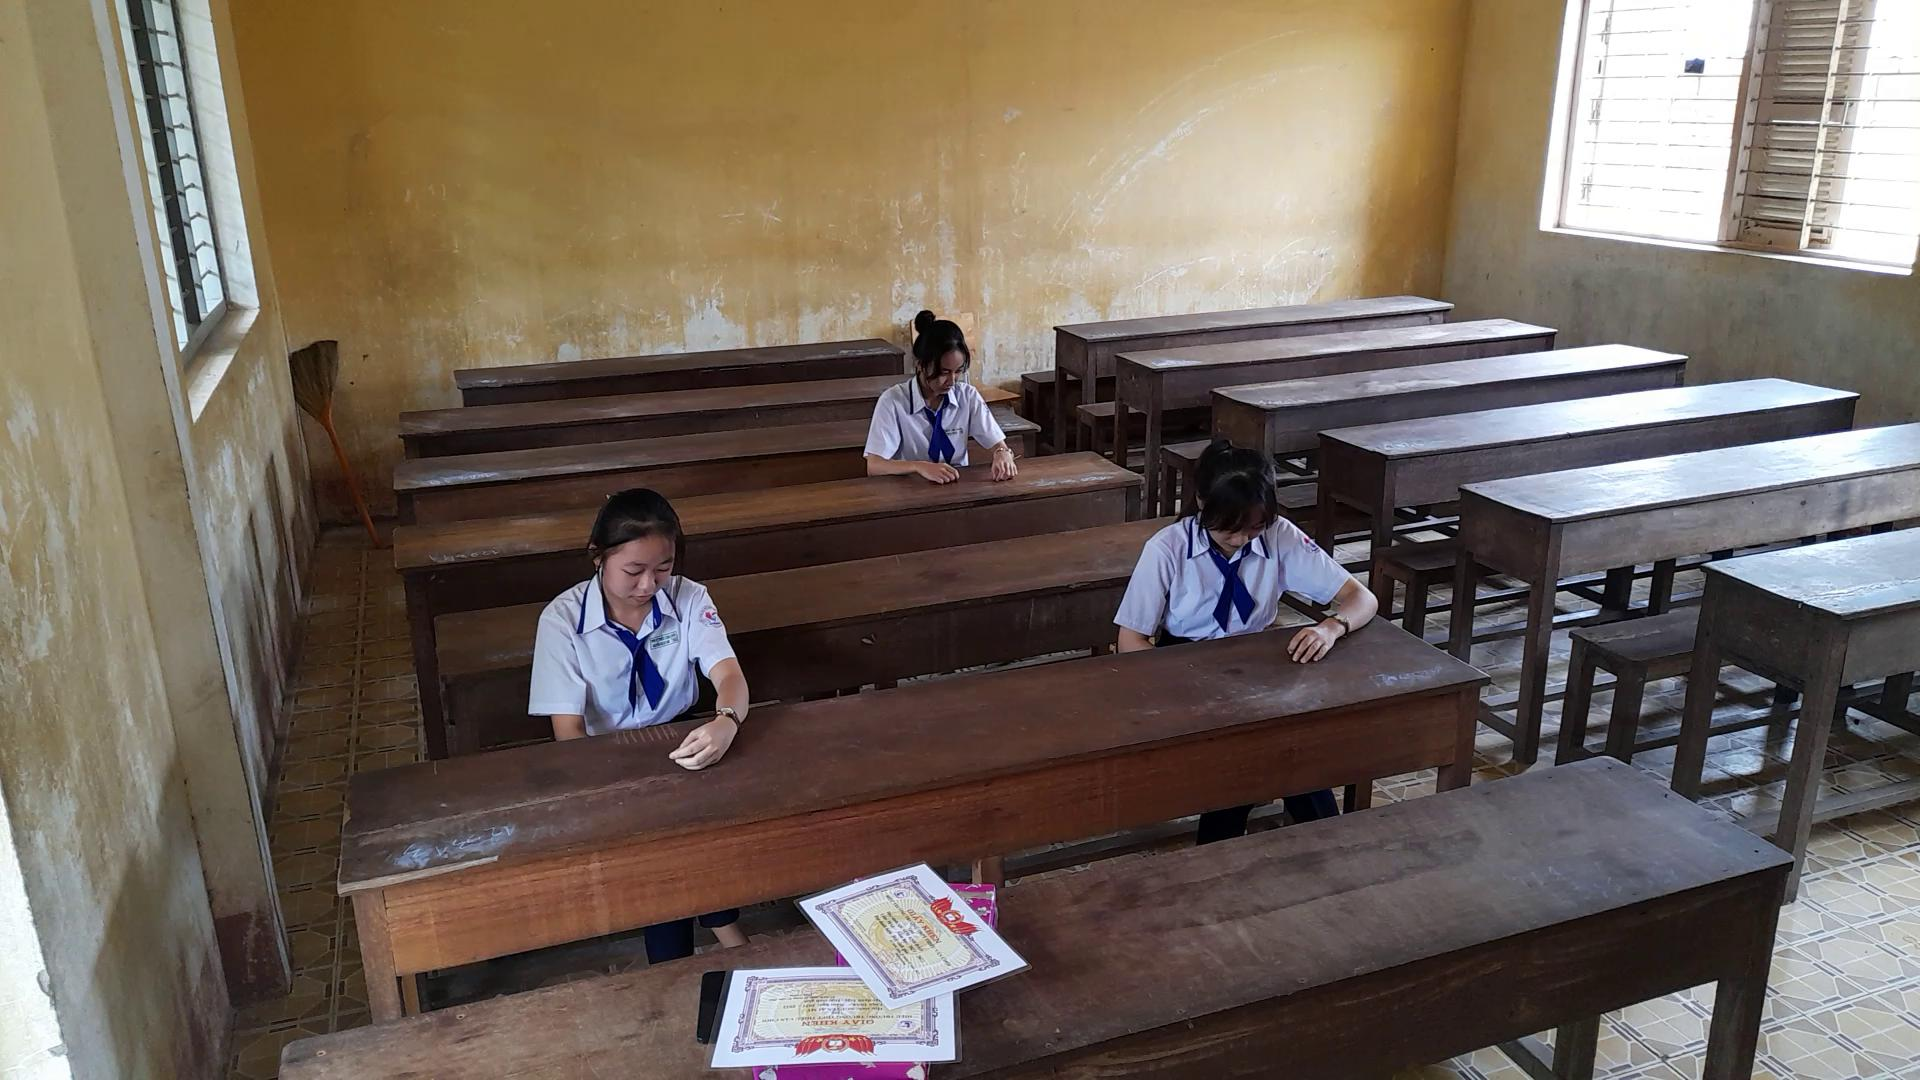Bend Over The Desk: (554, 477, 702, 616), (1154, 423, 1302, 562), (885, 303, 986, 411)
Hand Under Table: (526, 589, 597, 745), (1109, 516, 1180, 670)
